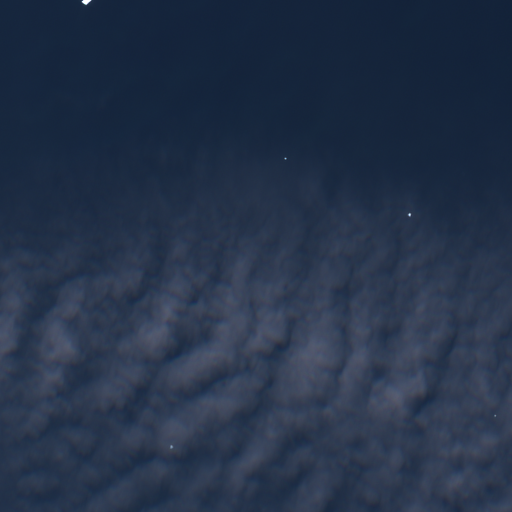Iceberg: (81, 0, 91, 4), (407, 213, 410, 216), (170, 445, 172, 448), (284, 157, 286, 159), (494, 414, 496, 416)
